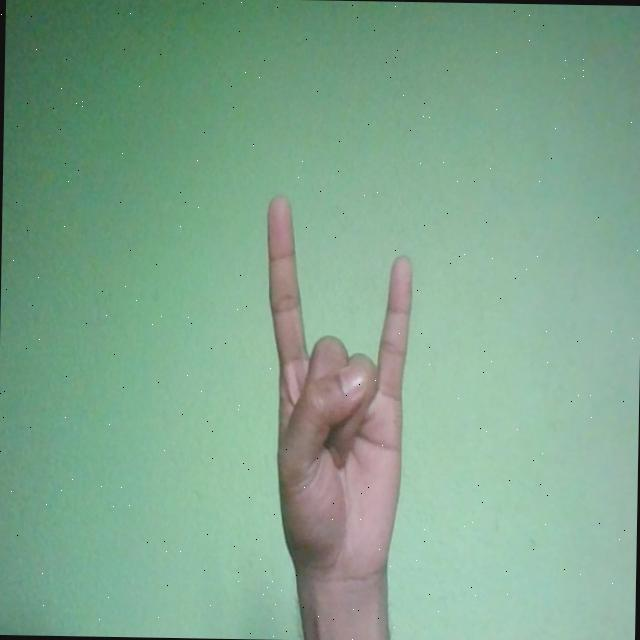open Plam: (262, 192, 415, 590)
